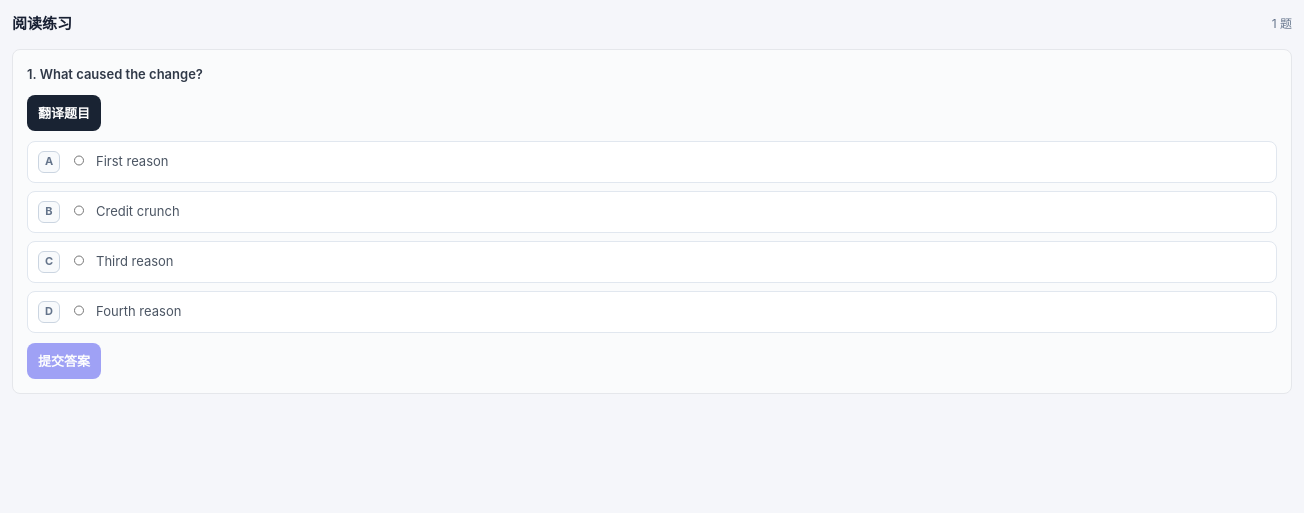
Test: LearningWorkspace › 将历史题干内嵌选项渲染为可作答单选项，并按字母提交
The width and height of the screenshot is (1304, 513).
Expected: the text "1. What caused the change?" is shown, x1=27 y1=66 x2=203 y2=82
Expected: the button "提交答案" is disabled, x1=27 y1=343 x2=101 y2=379
Click the radio button with aria-label "选择选项 B".
click(79, 210)  # box x1=74 y1=204 x2=84 y2=217
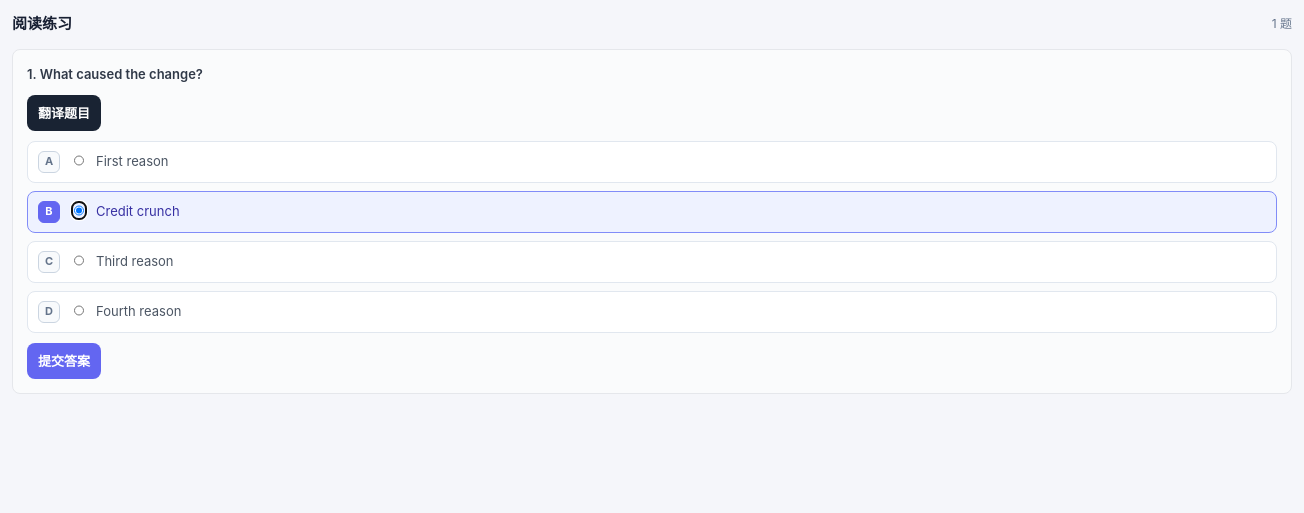
Click the button "提交答案".
click(64, 361)  # box x1=27 y1=343 x2=101 y2=379
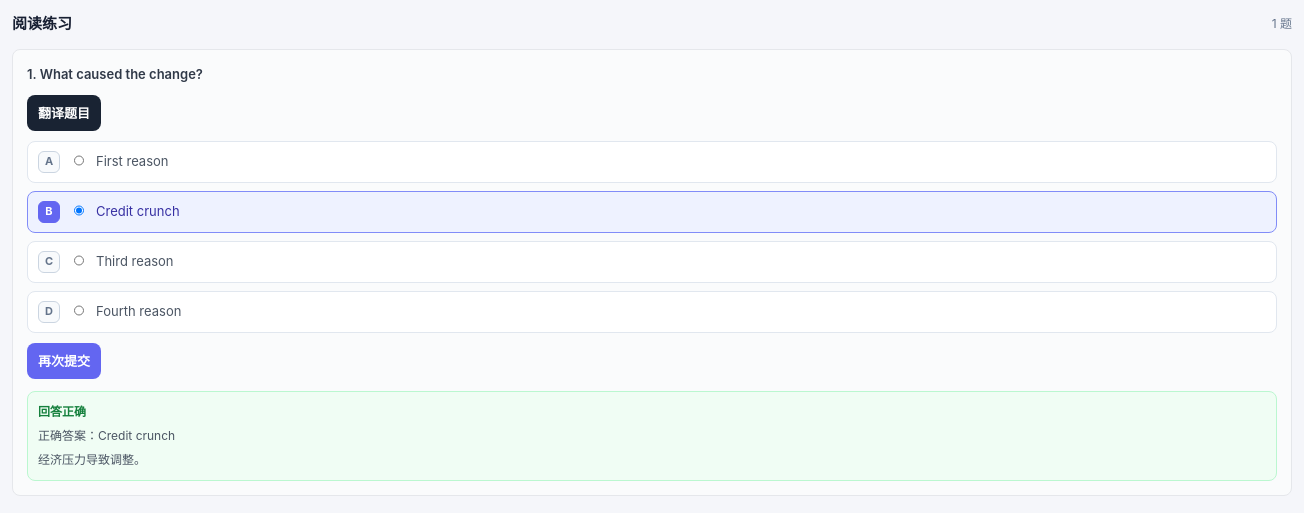
Expected: the text "回答正确" is shown, x1=38 y1=404 x2=86 y2=419
Expected: the text "正确答案：Credit crunch" is shown, x1=38 y1=428 x2=175 y2=443
